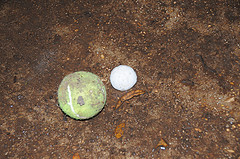tennis ball: (55, 69, 109, 123)
